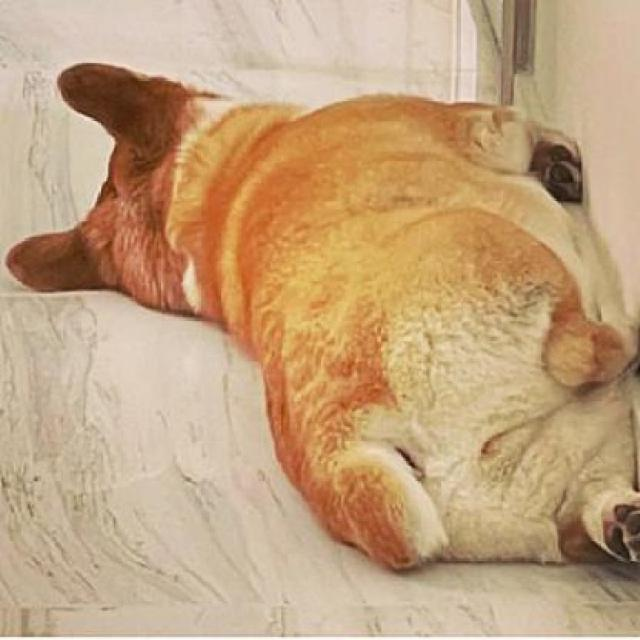Dog: (3, 70, 639, 572)
